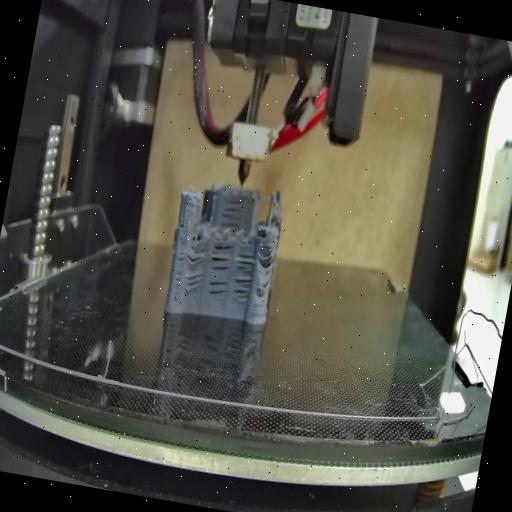cracks: (170, 242, 190, 304), (218, 192, 246, 231), (208, 240, 236, 276), (206, 276, 230, 309), (229, 275, 252, 308), (232, 249, 256, 277), (186, 239, 209, 267), (183, 268, 203, 297), (261, 248, 276, 270), (262, 275, 271, 293), (176, 217, 186, 231)
